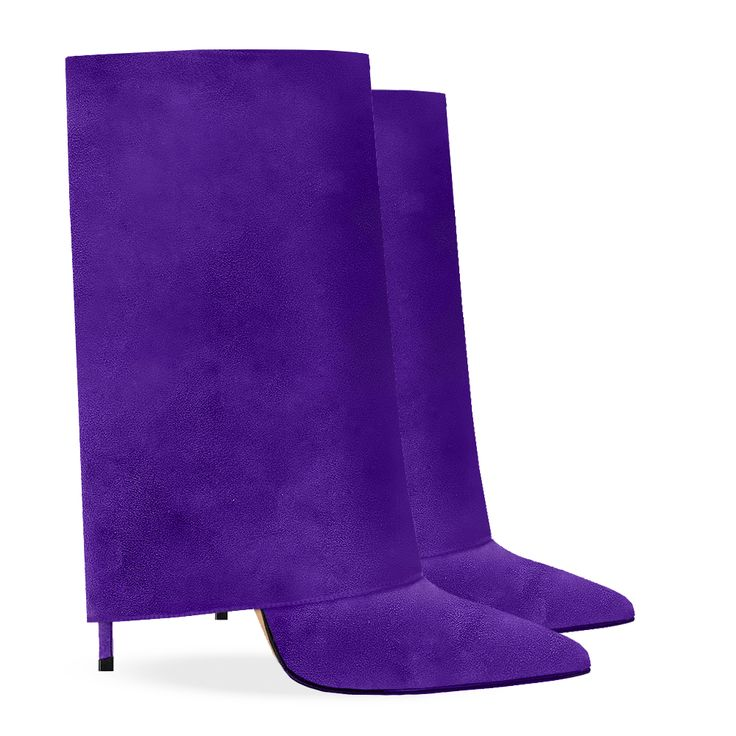gamuza: (67, 49, 635, 690)
